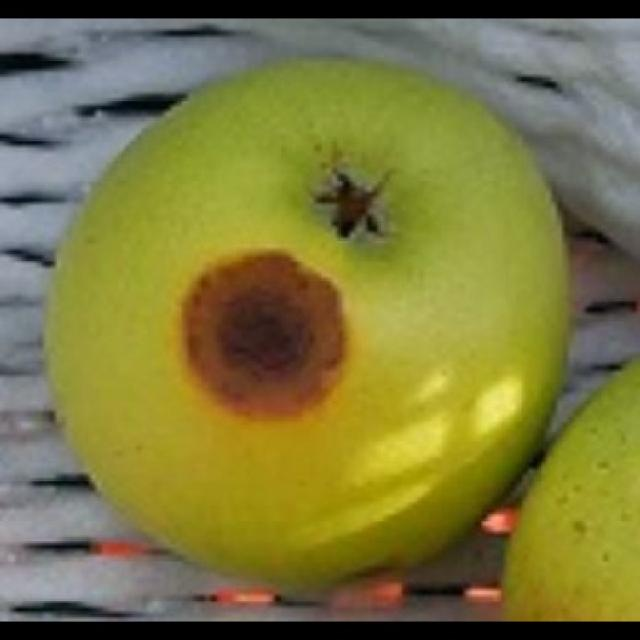Rotten Apple: (36, 51, 578, 597)
